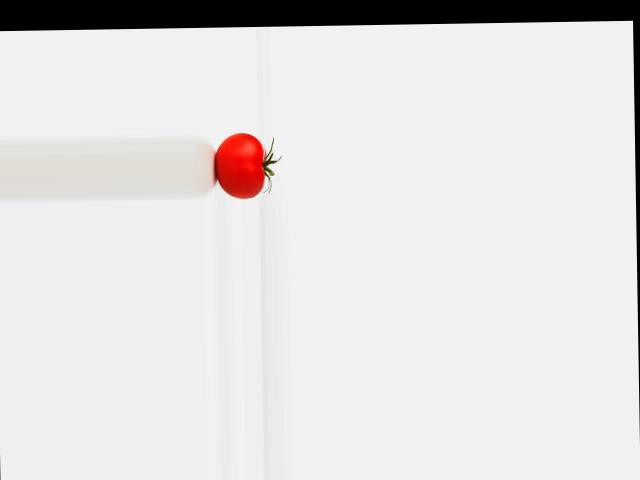tomato: (215, 132, 265, 198)
